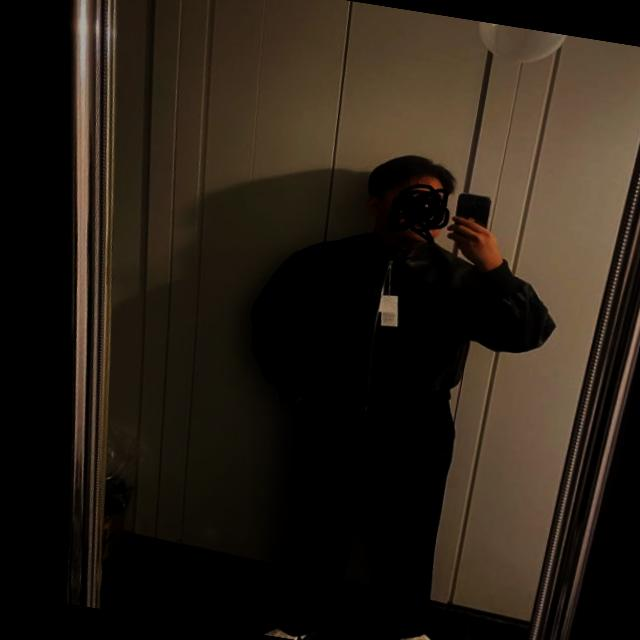blazer: (240, 214, 570, 443)
slacks: (260, 381, 462, 640)
